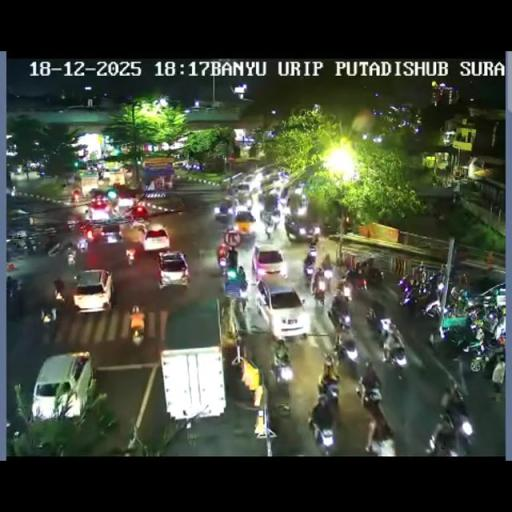Car: (31, 351, 93, 423), (256, 281, 309, 338), (72, 269, 114, 312), (467, 281, 505, 315), (156, 250, 189, 288), (252, 244, 286, 278), (284, 214, 322, 242), (142, 226, 170, 252), (286, 188, 308, 216), (114, 188, 140, 210), (231, 182, 254, 206), (88, 198, 112, 221), (99, 223, 123, 245), (234, 210, 256, 234), (261, 172, 285, 193), (214, 202, 234, 226), (130, 205, 149, 221), (171, 160, 189, 169)
Motorcycle: (325, 254, 497, 388), (358, 366, 394, 450), (428, 402, 474, 454), (459, 326, 504, 373), (306, 394, 338, 454), (379, 323, 407, 369), (334, 325, 358, 363), (327, 294, 351, 330), (420, 277, 442, 316), (270, 350, 294, 384), (398, 278, 420, 312), (316, 374, 340, 403), (452, 354, 469, 394), (344, 268, 366, 296), (41, 306, 58, 342), (234, 273, 249, 312), (449, 286, 470, 312), (491, 358, 504, 400), (310, 274, 328, 303), (364, 305, 380, 336), (362, 265, 384, 287), (302, 250, 317, 279), (261, 210, 277, 236), (492, 312, 506, 341), (322, 217, 344, 235), (24, 236, 43, 254), (321, 256, 333, 283), (6, 276, 20, 299), (130, 324, 144, 346), (43, 237, 60, 255), (416, 264, 427, 285), (309, 231, 319, 249), (77, 238, 87, 254), (217, 254, 227, 270), (67, 249, 76, 266), (278, 193, 288, 208), (126, 249, 135, 265), (54, 288, 64, 302), (84, 208, 92, 220), (72, 192, 80, 202), (61, 182, 66, 188)
